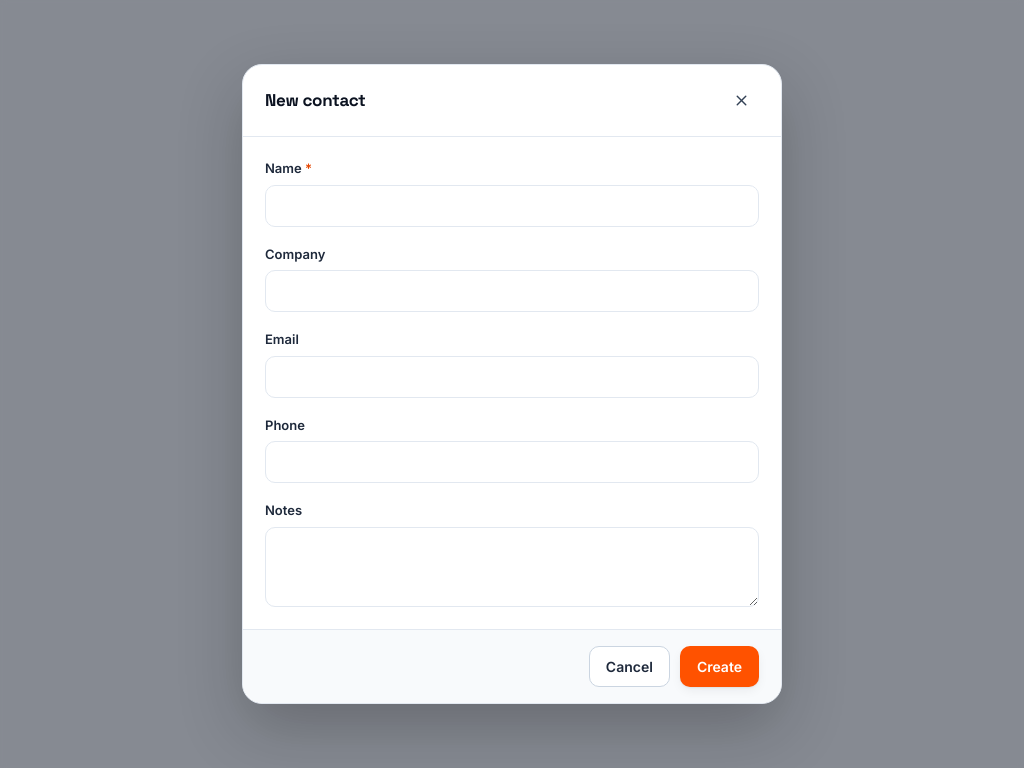
Test: NewContactModal › shows an inline error and does not submit when the name is missing
This screenshot has width=1024, height=768.
Click the button "Create".
click(719, 666)  # box [680, 646, 759, 687]
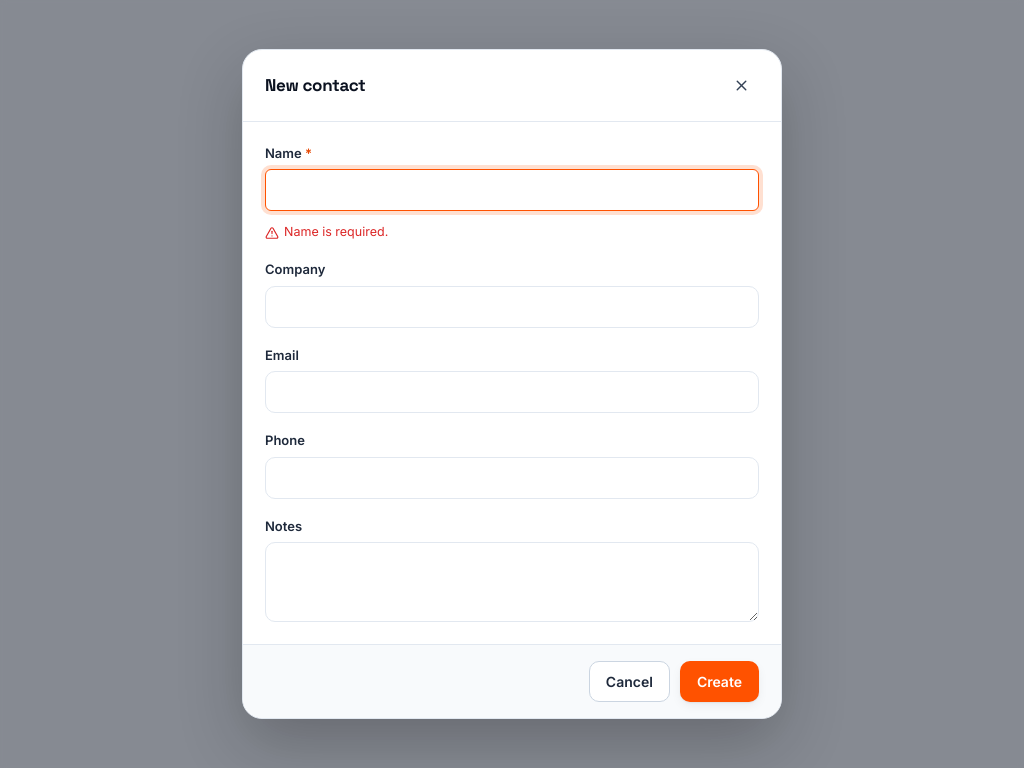
Check: the text "Name is required." is shown, box [265, 224, 388, 240]
